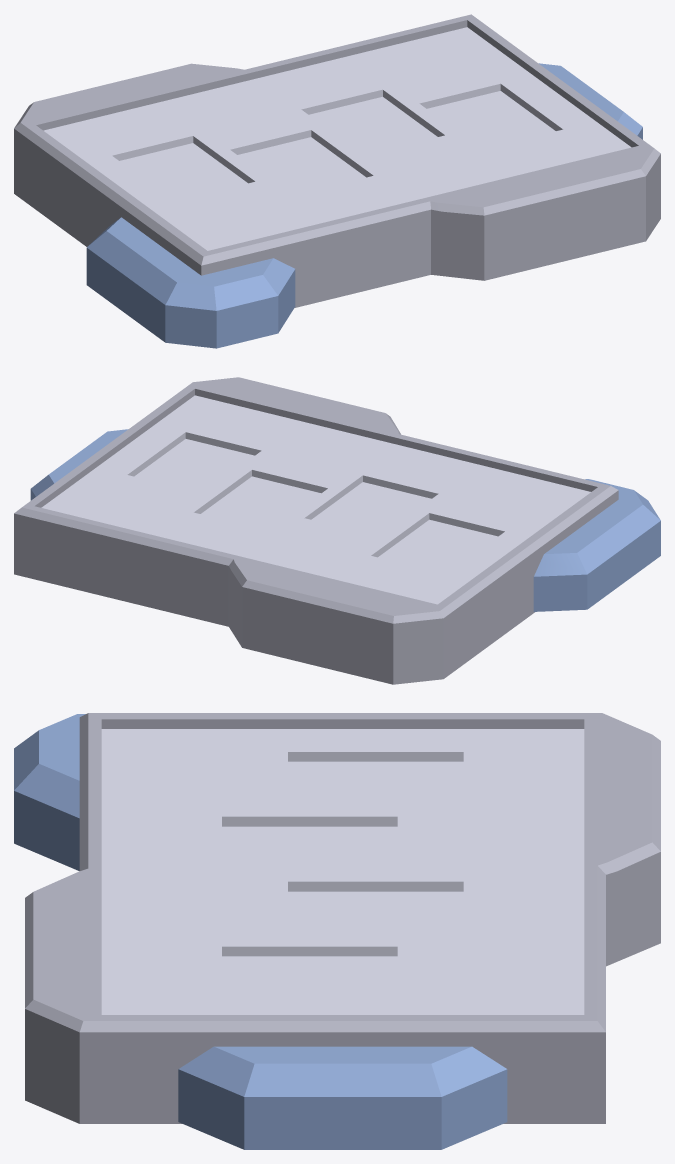
The model's file is keypad.gltf.
The picture shows the model from 3 angles, top to bottom: view 1: azimuth 30°, elevation 25°; view 2: azimuth 150°, elevation 25°; view 3: azimuth 270°, elevation 25°; orthographic projection. The views are drawn at different scales.
Parts seen in each view (by area): view 1: polySurface7, keypadBase5, pCube32, pCube33; view 2: polySurface7, keypadBase5, pCube32, pCube33; view 3: polySurface7, keypadBase5, pCube33, pCube32.
Boxes of the visible parts, left/top/right/bottom form: polySurface7: left=43, top=27, right=631, bottom=250; keypadBase5: left=14, top=14, right=660, bottom=307; pCube32: left=86, top=217, right=295, bottom=348; pCube33: left=539, top=63, right=642, bottom=139; polySurface7: left=41, top=395, right=590, bottom=604; keypadBase5: left=14, top=377, right=618, bottom=684; pCube32: left=533, top=479, right=660, bottom=611; pCube33: left=30, top=429, right=128, bottom=500; polySurface7: left=101, top=729, right=584, bottom=1014; keypadBase5: left=25, top=713, right=660, bottom=1123; pCube33: left=178, top=1046, right=507, bottom=1149; pCube32: left=14, top=714, right=85, bottom=870.
Size of the model in its own units: 4 by 0.5 by 2.95.
